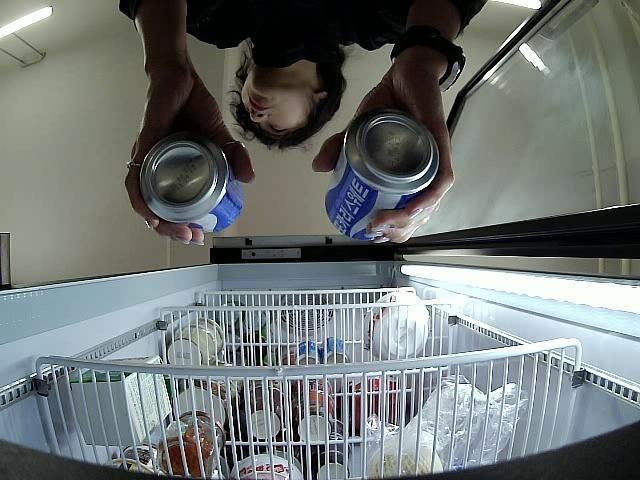13_pocariSweat: (324, 108, 439, 241), (137, 137, 246, 234)
